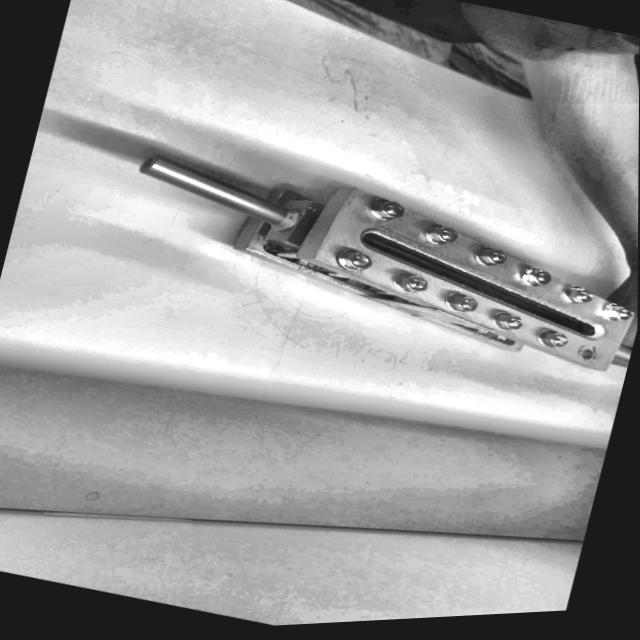ShuiWeiQi_11: (105, 117, 639, 419)
